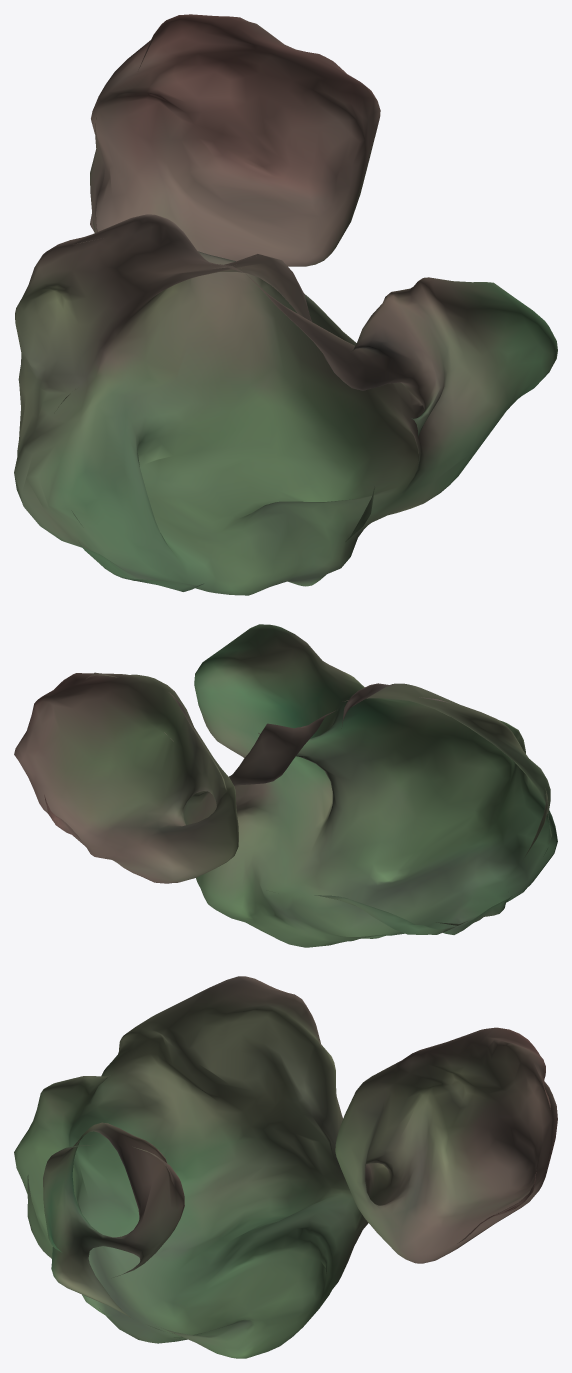
Rendered from Cloud1_LOD2.glb.
3 renders of one model, top to bottom at view 1: azimuth 30°, elevation 25°; view 2: azimuth 150°, elevation 25°; view 3: azimuth 270°, elevation 25°, orthographic. The views are drawn at different scales.
Visible parts, largest first — view 1: Cloud1_LOD2; view 2: Cloud1_LOD2; view 3: Cloud1_LOD2.
Boxes of the visible parts, x1,y1,x2,y2 form: Cloud1_LOD2: (14, 14, 557, 595); Cloud1_LOD2: (14, 624, 557, 947); Cloud1_LOD2: (14, 976, 557, 1358).
Bounding box in the file's own units: 0.8971 × 0.7095 × 0.9988.
